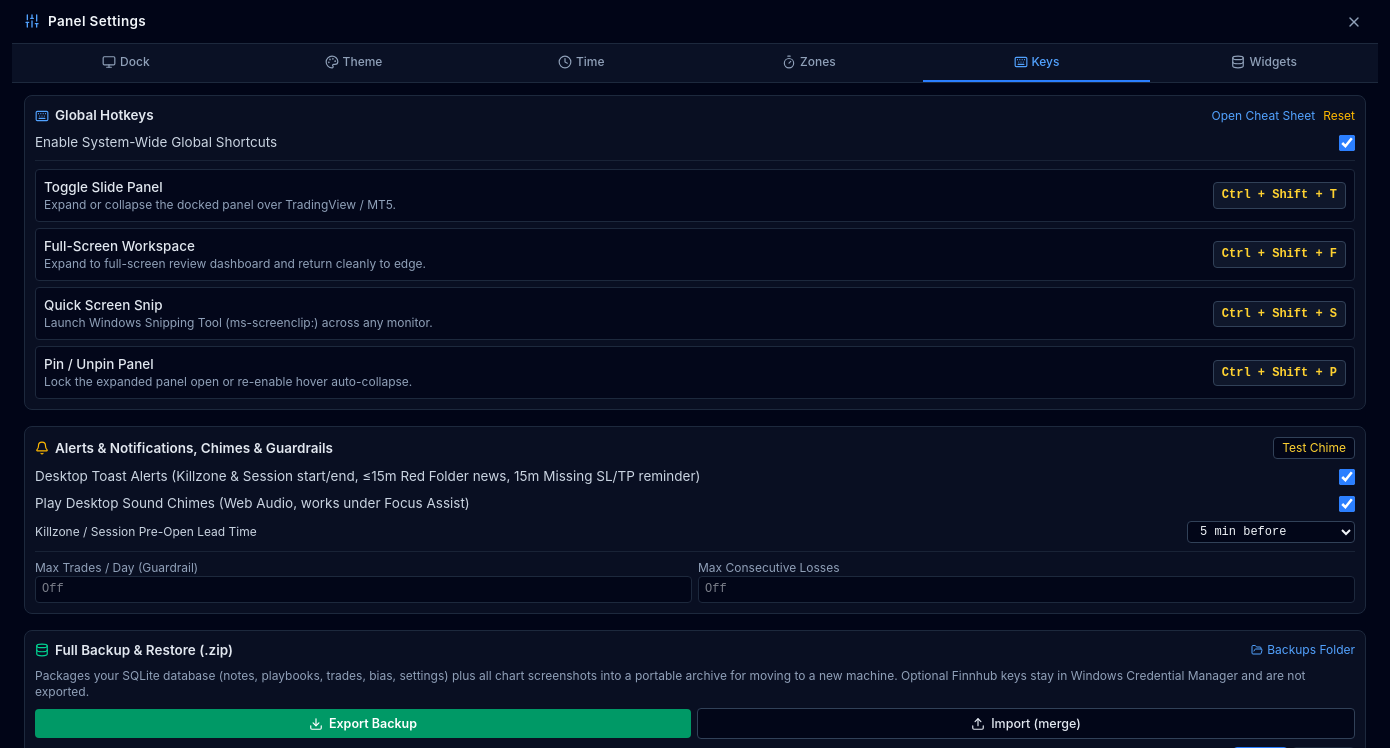
Test: Milestone 5 Polish: Hotkey Cheat Sheet, Key Recorder & Backup Round-Trip › records custom global shortcuts and toggles restore strategy in SettingsOverlay Keys tab
expect the text "Global Hotkeys" is shown: met, box [35,106,154,125]
expect the text "Alerts & Notifications, Chimes & Guardrails" is shown: met, box [35,439,333,458]
Click the button "Ctrl + Shift + T" at coordinates (1279, 196), box [1213,182,1346,209]
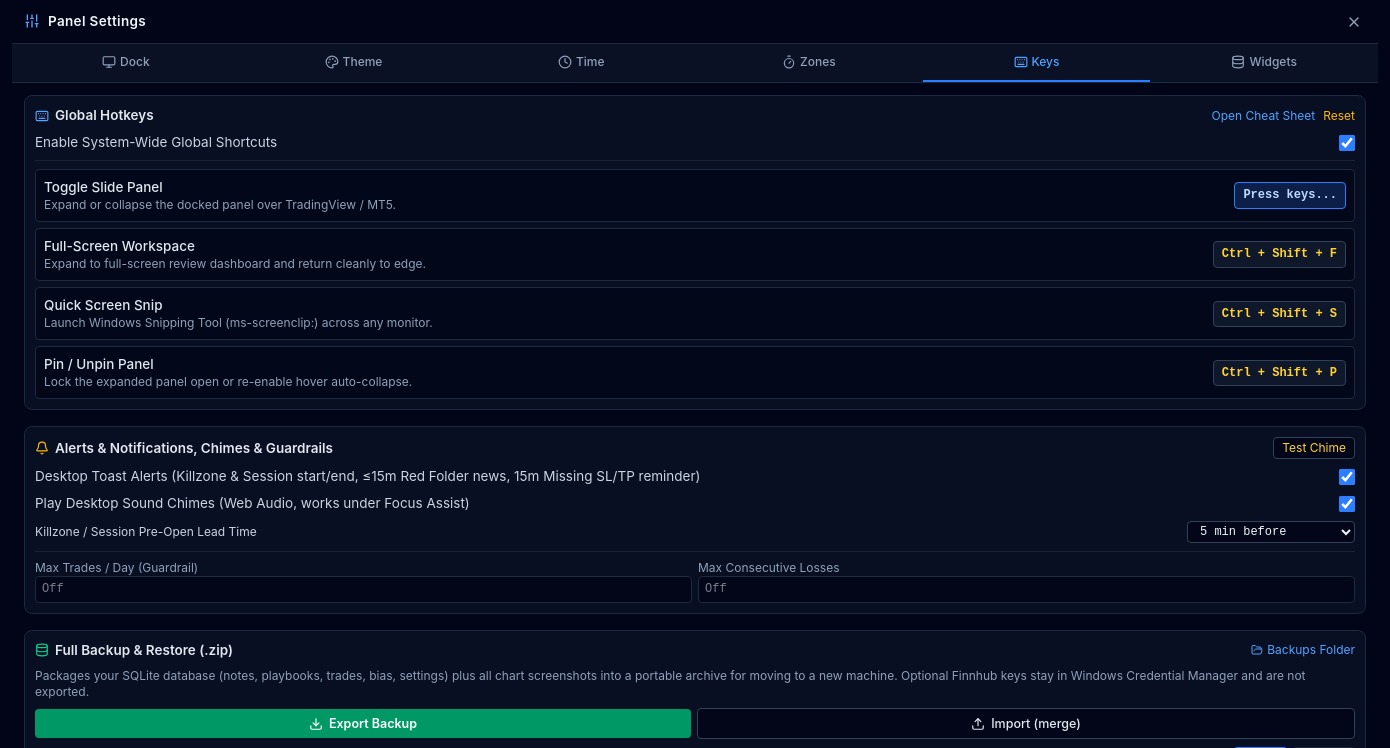
expect the button "Press keys..." is shown: met
Press k in the button "Press keys...", box [1234,182,1346,209]
(page scrolled)
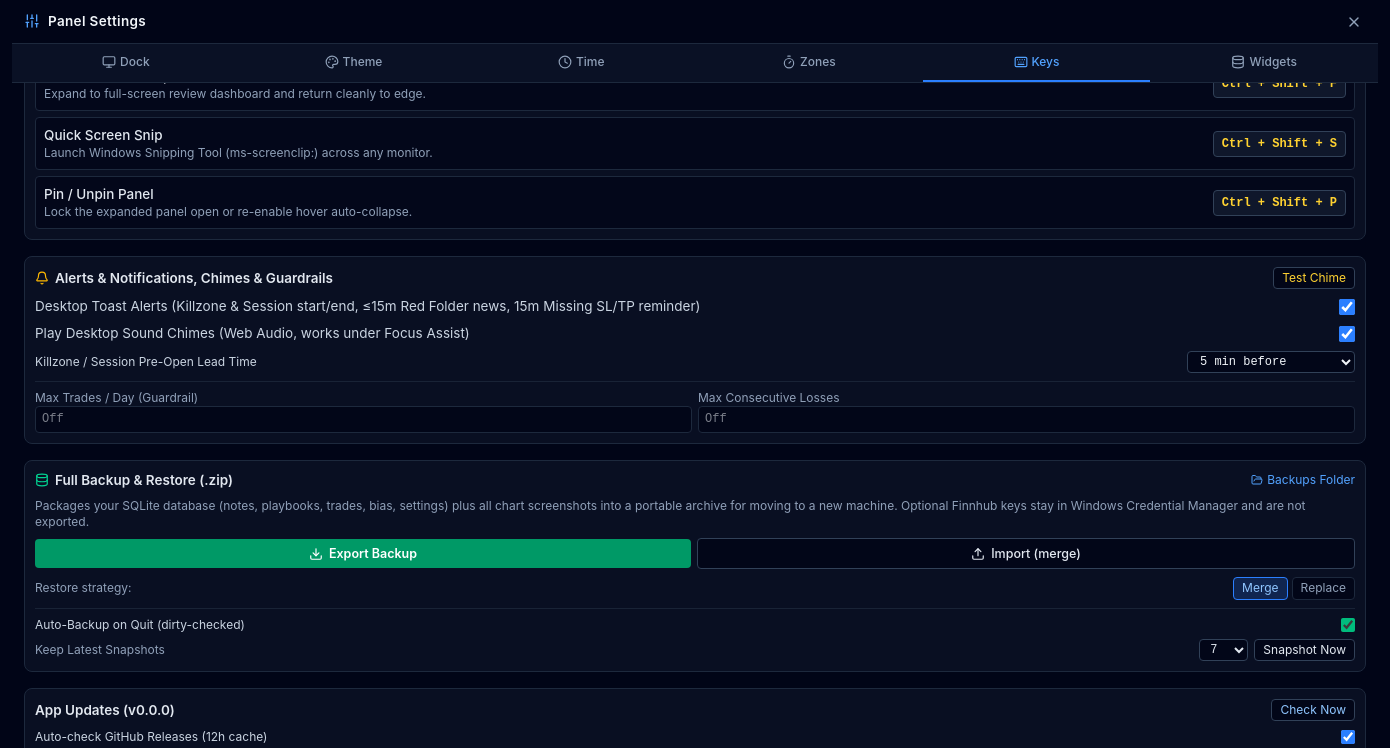
Click the button "replace" at coordinates (1323, 588), box [1292,577,1355,600]
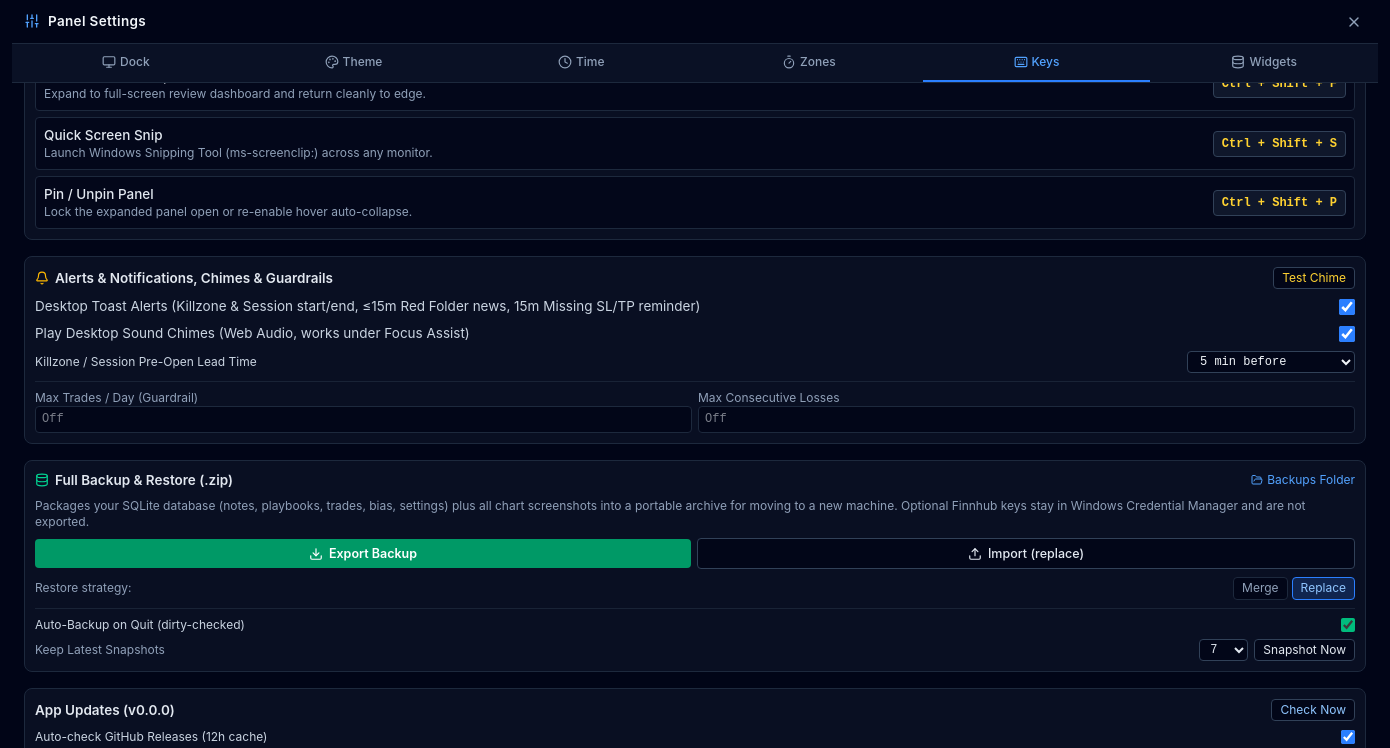
expect the button "Import (replace)" is shown: met, box [697,538,1355,569]
